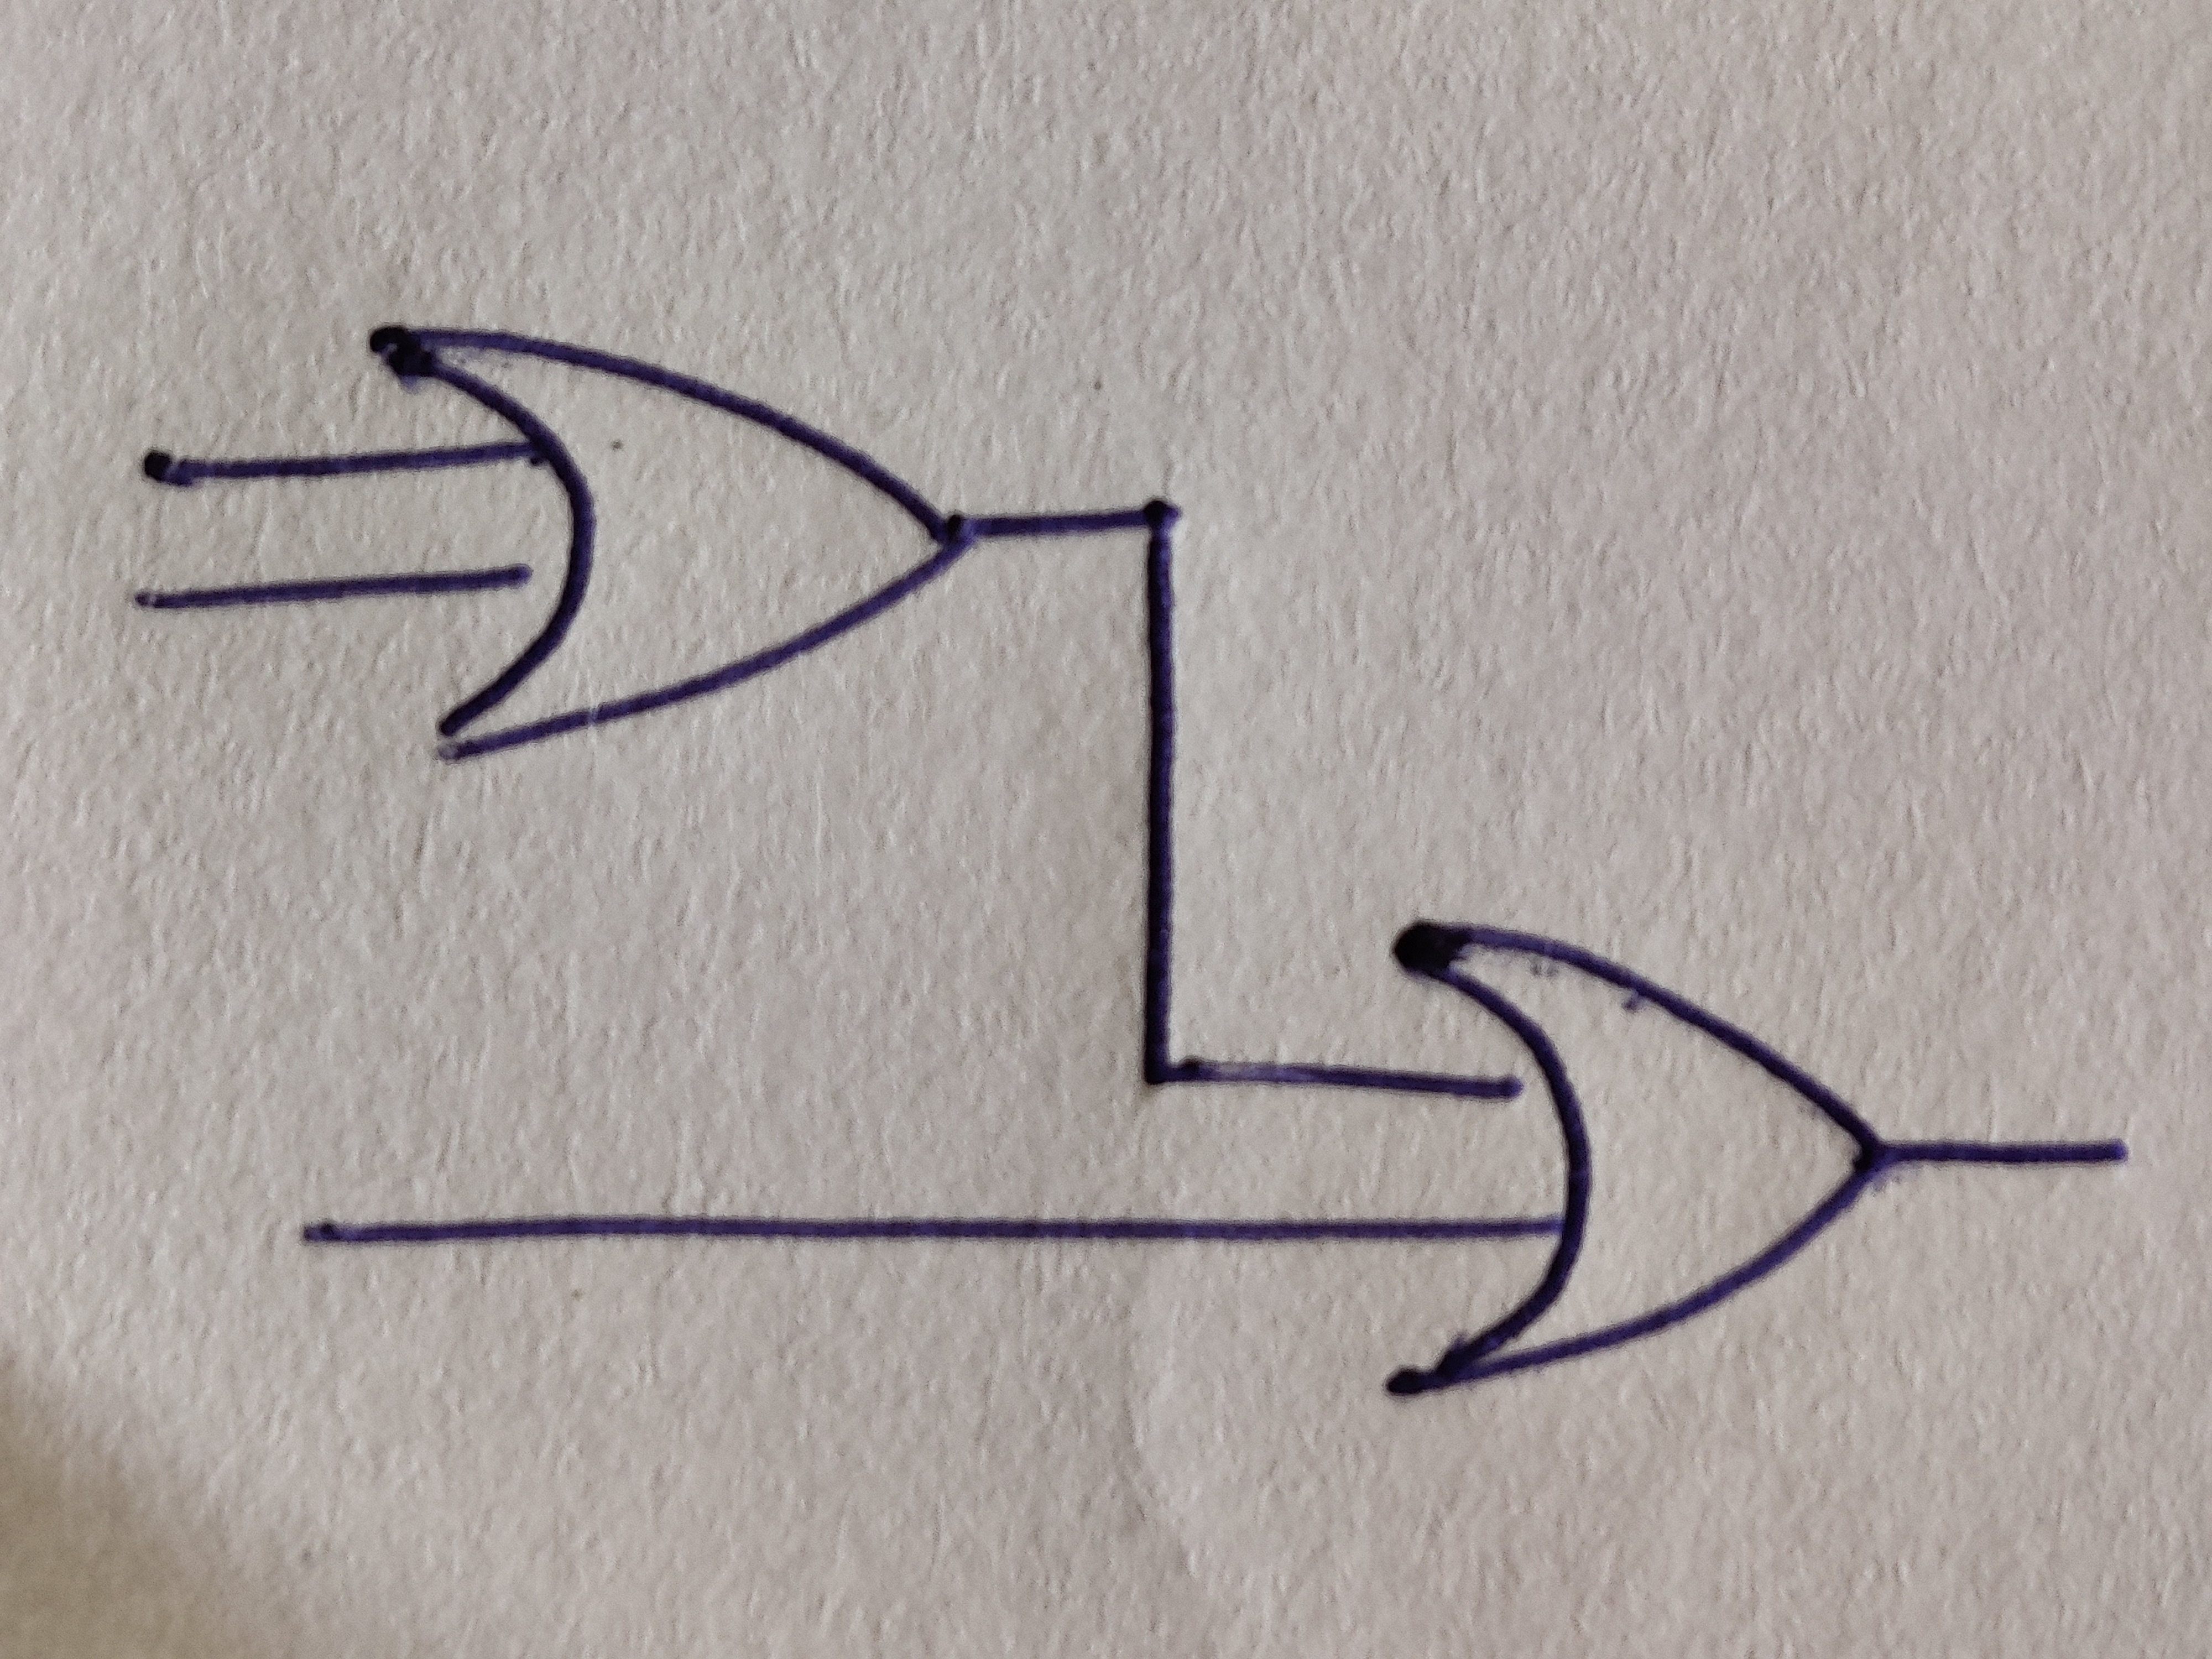or: (366, 326, 977, 758), (1392, 924, 1879, 1399)
